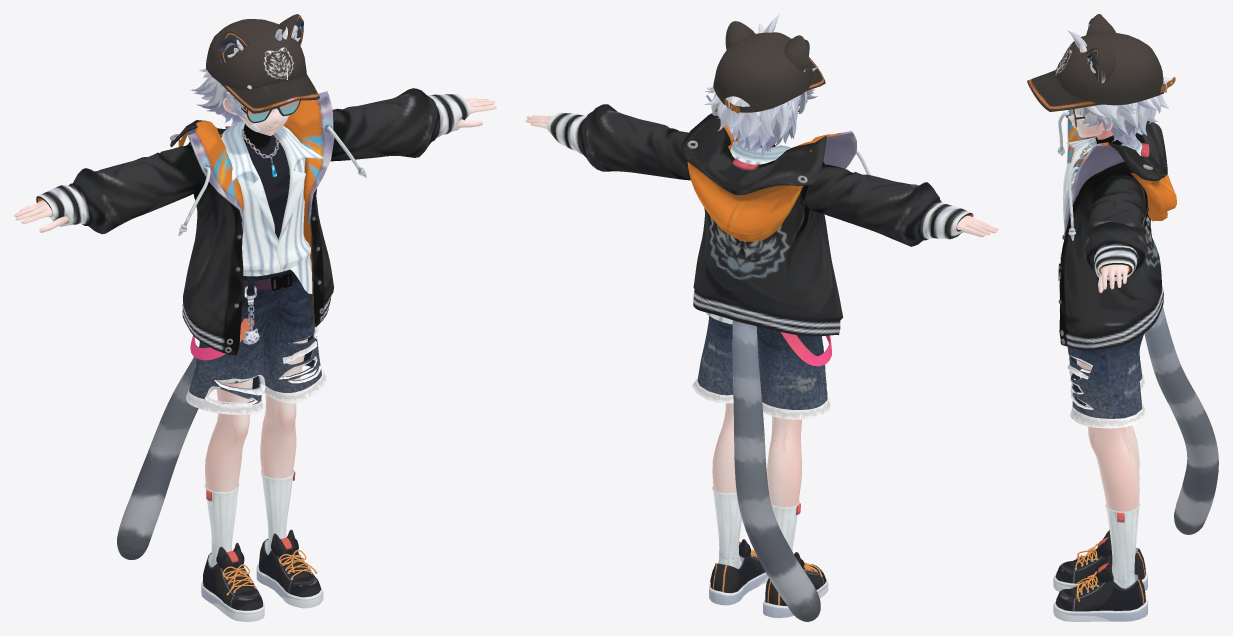
The model's file is tira.glb.
3 views of the same model, side by side, from view 1: azimuth 30°, elevation 25°; view 2: azimuth 150°, elevation 25°; view 3: azimuth 270°, elevation 25° (orthographic). The views are drawn at different scales.
Parts seen in each view (by area): view 1: JF_mesh; view 2: JF_mesh; view 3: JF_mesh.
Part boxes in pixels (x1,y1,x2,y2): JF_mesh: [14, 14, 496, 621]; JF_mesh: [525, 14, 998, 621]; JF_mesh: [1027, 14, 1218, 621].
Size of the model in its own units: 1.35 by 1.55 by 0.4723.
46 materials, 39 textured.
